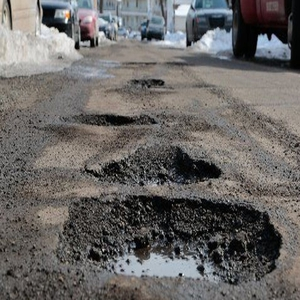pothole: (56, 195, 284, 284), (97, 145, 222, 188), (66, 112, 158, 126), (130, 77, 165, 87)
